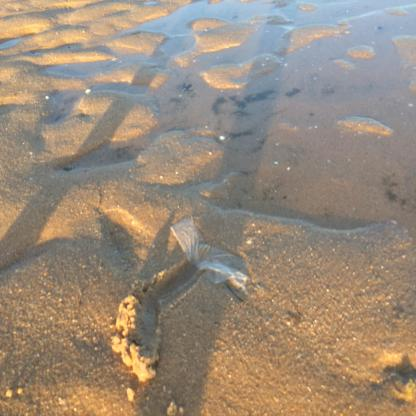plastik: (171, 218, 249, 286)
